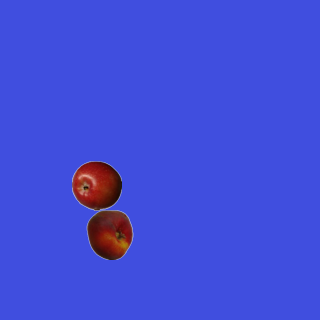Apple Braeburn: (71, 160, 121, 210)
Nectarine Flat: (84, 209, 134, 259)
